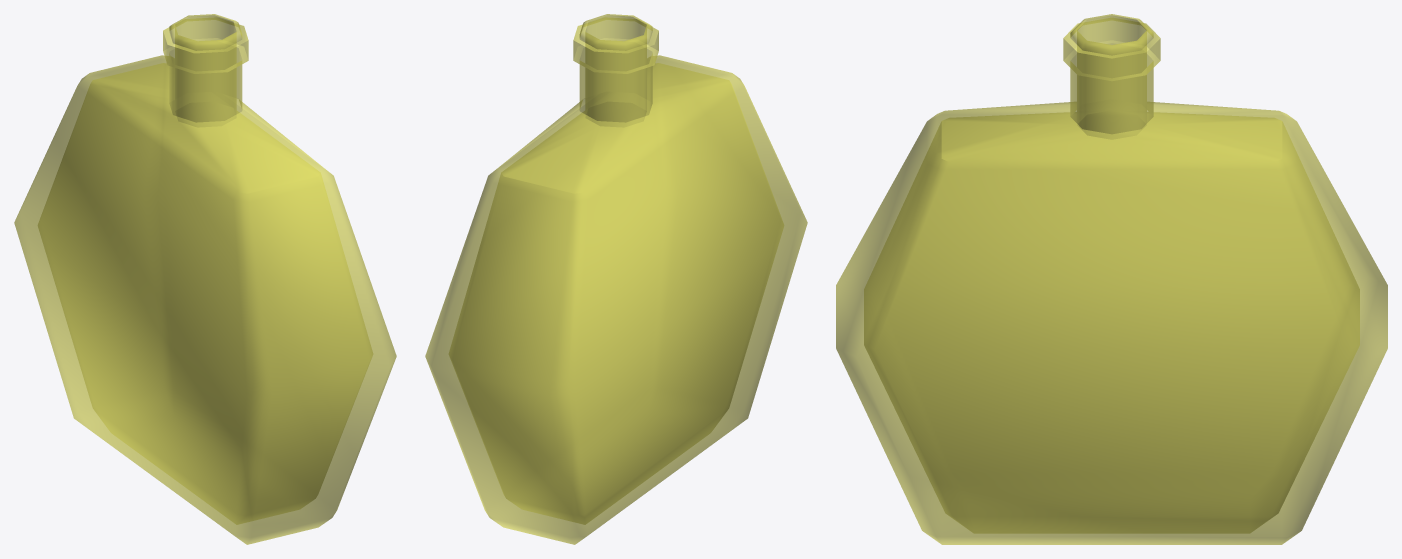
Rendered from PROP_013_Bottles_K.fbx.
The picture shows the model from 3 angles, left to right: view 1: azimuth 30°, elevation 25°; view 2: azimuth 150°, elevation 25°; view 3: azimuth 270°, elevation 25°; orthographic projection. The views are drawn at different scales.
Parts seen in each view (by area): view 1: Cuadrado_009; view 2: Cuadrado_009; view 3: Cuadrado_009.
Part boxes in pixels (x1,y1,x2,y2): Cuadrado_009: (14, 14, 396, 544); Cuadrado_009: (425, 14, 807, 544); Cuadrado_009: (836, 14, 1387, 544).
Size of the model in its own units: 0.0807 by 0.2321 by 0.2342.
